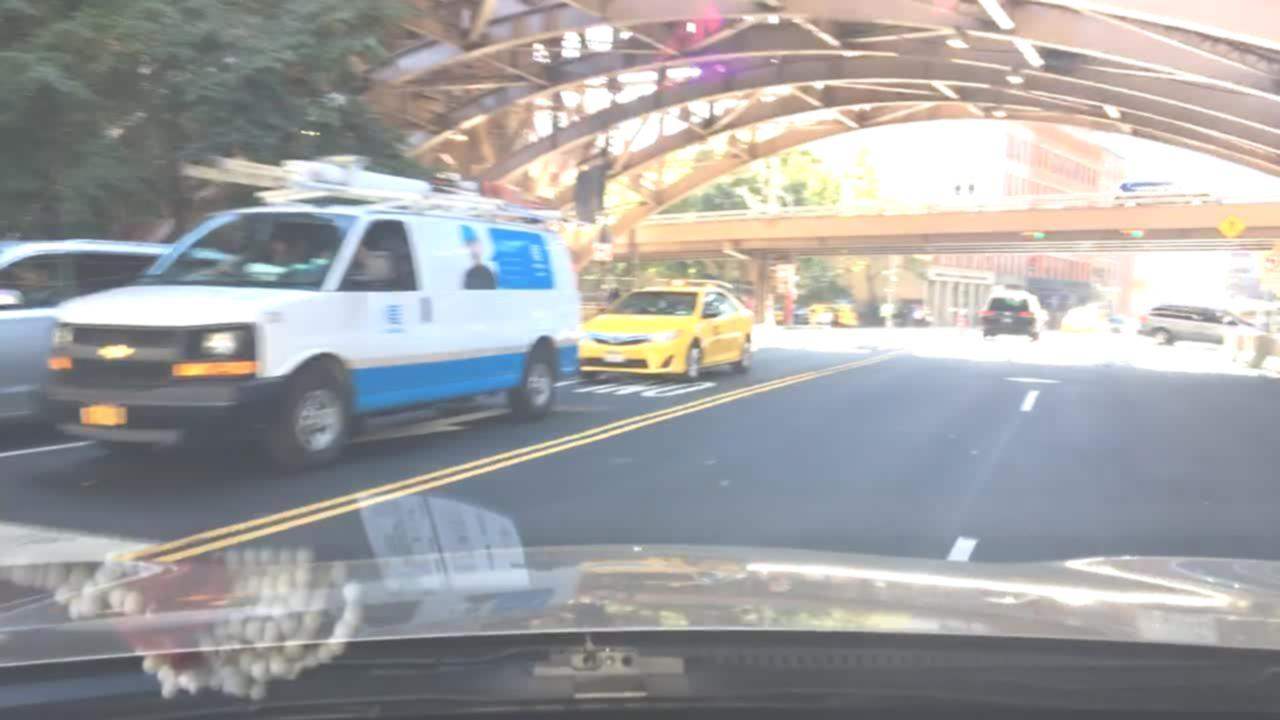chevrolet: (92, 334, 154, 370)
